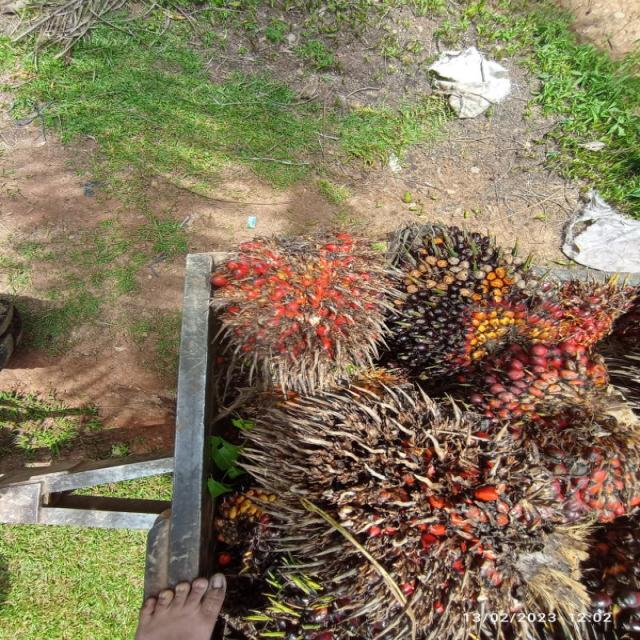fraksi 00: (376, 209, 534, 378)
fraksi 1: (477, 305, 640, 539)
fraksi 3: (520, 266, 632, 382)
fraksi 4: (296, 358, 568, 627), (180, 194, 431, 406)
